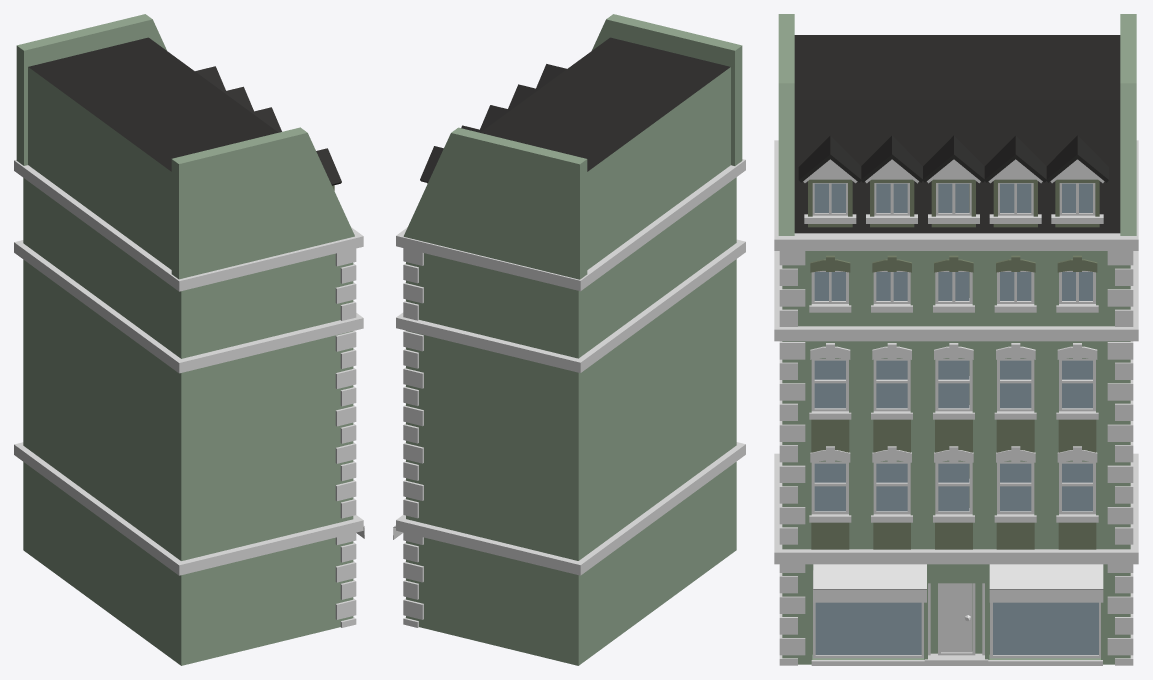
File: green-house.fbx
3 views of the same model, side by side, from view 1: azimuth 30°, elevation 25°; view 2: azimuth 150°, elevation 25°; view 3: azimuth 270°, elevation 25° (orthographic). The views are drawn at different scales.
Visible parts, largest first — view 1: Cube.082, Cube.087, Cube.088, Cube.079, Cube.091; view 2: Cube.082, Cube.087, Cube.088, Cube.079, Cube.091; view 3: Cube.082, Cube.086, Cube.079, Cube.080, Cube.089, Plane.004, Cube.087, Cube.088, Cube.084, Cube.091.
Part boxes in pixels (x1=…): Cube.082: x1=14, y1=14, x2=363, y2=665; Cube.087: x1=335, y1=330, x2=356, y2=518; Cube.088: x1=335, y1=532, x2=356, y2=627; Cube.079: x1=195, y1=66, x2=341, y2=190; Cube.091: x1=335, y1=248, x2=356, y2=320; Cube.082: x1=396, y1=14, x2=745, y2=665; Cube.087: x1=403, y1=330, x2=423, y2=518; Cube.088: x1=403, y1=532, x2=423, y2=627; Cube.079: x1=420, y1=64, x2=566, y2=183; Cube.091: x1=403, y1=248, x2=423, y2=320; Cube.082: x1=774, y1=14, x2=1138, y2=664; Cube.086: x1=809, y1=343, x2=1098, y2=549; Cube.079: x1=798, y1=135, x2=1108, y2=227; Cube.080: x1=811, y1=570, x2=1102, y2=665; Cube.089: x1=809, y1=255, x2=1098, y2=312; Plane.004: x1=813, y1=564, x2=1103, y2=602; Cube.087: x1=779, y1=341, x2=1133, y2=544; Cube.088: x1=779, y1=564, x2=1133, y2=665; Cube.084: x1=924, y1=583, x2=988, y2=665; Cube.091: x1=779, y1=251, x2=1133, y2=326.
Bounding box in the file's own units: 721 × 1708 × 1014.
